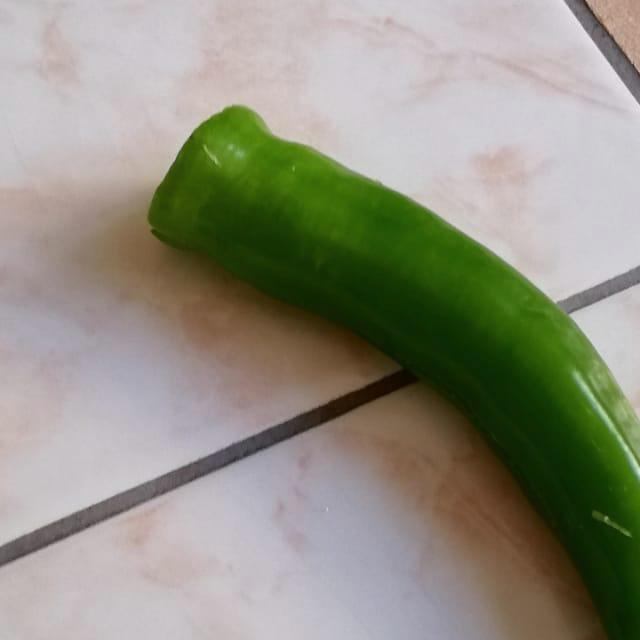chili_pepper: (138, 85, 640, 640)
